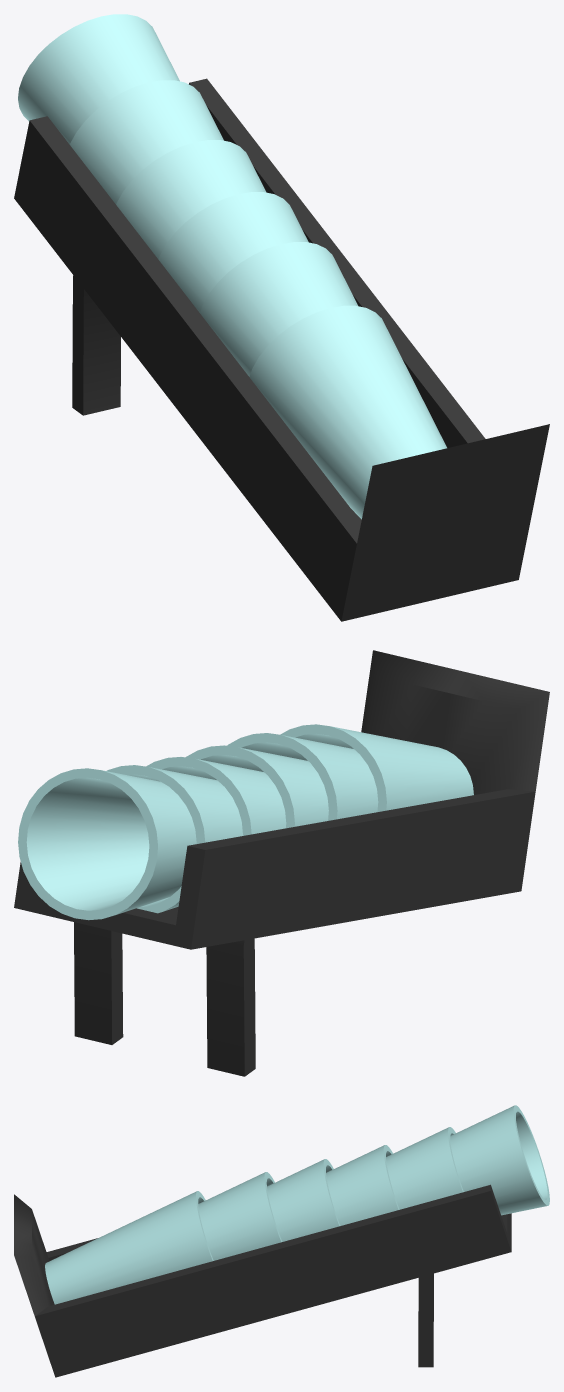
Rendered from 16ozYuva.fbx.
3 views of the same model, one above another, from view 1: azimuth 30°, elevation 25°; view 2: azimuth 150°, elevation 25°; view 3: azimuth 270°, elevation 25° (orthographic). The views are drawn at different scales.
Visible parts, largest first — view 1: 16ozYuva.006; view 2: 16ozYuva.006; view 3: 16ozYuva.006.
Part boxes in pixels (bbox=[...]): 16ozYuva.006: bbox=[14, 14, 549, 621]; 16ozYuva.006: bbox=[14, 650, 549, 1076]; 16ozYuva.006: bbox=[14, 1105, 549, 1377].
Size of the model in its own units: 44.48 by 81.03 by 166.
